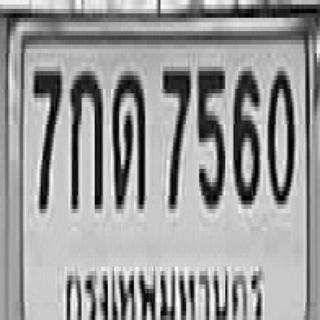A01: (69, 67, 101, 209)
A20: (111, 67, 144, 204)
N00: (266, 67, 292, 200)
N05: (196, 62, 224, 204)
N06: (232, 67, 258, 200)
N07: (33, 67, 60, 209), (162, 67, 189, 204)
P04: (62, 261, 269, 320)
